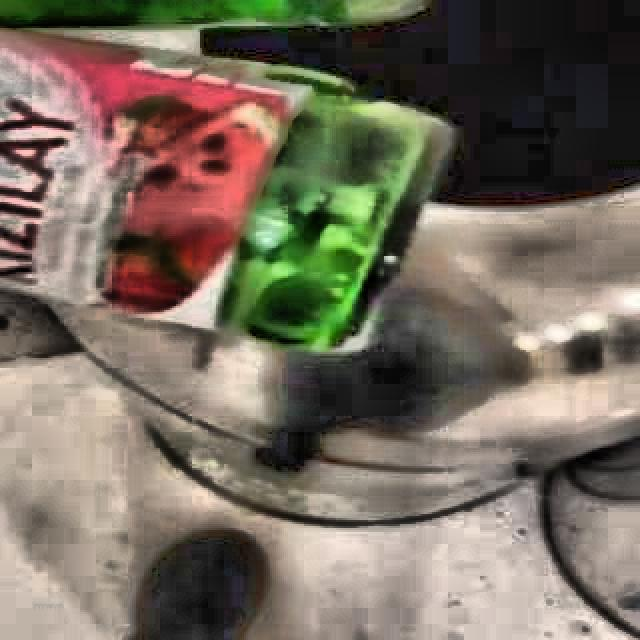glass: (0, 28, 451, 349)
